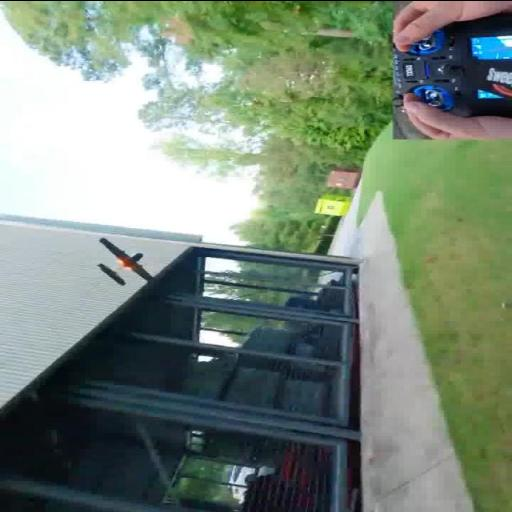uav: (87, 232, 162, 286)
